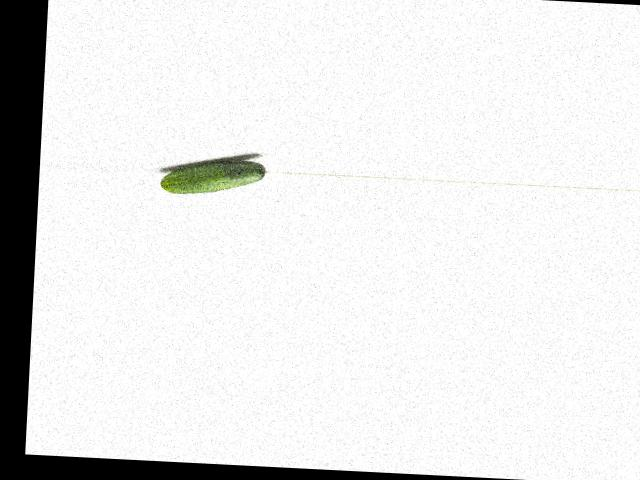cucumber: (160, 155, 268, 198)
